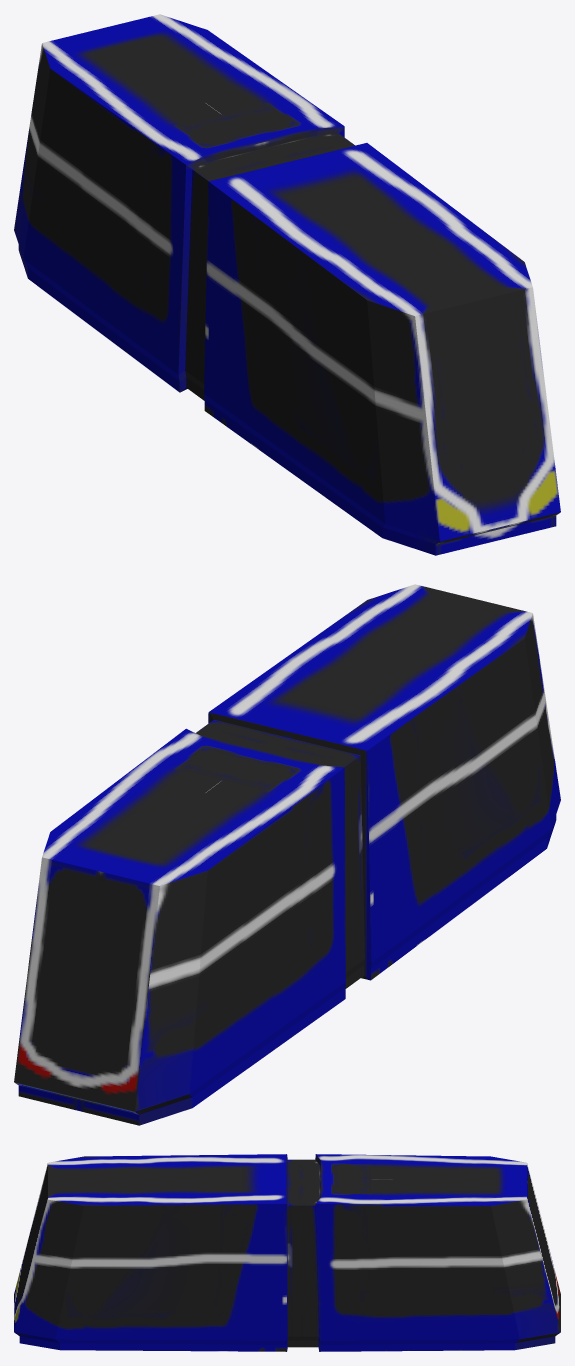
The model's file is tram.fbx.
The picture shows the model from 3 angles, top to bottom: view 1: azimuth 30°, elevation 25°; view 2: azimuth 150°, elevation 25°; view 3: azimuth 270°, elevation 25°; orthographic projection. The views are drawn at different scales.
Visible parts, largest first — view 1: Plane; view 2: Plane; view 3: Plane.
Part boxes in pixels (x1=…): Plane: x1=14, y1=14, x2=560, y2=555; Plane: x1=14, y1=584, x2=560, y2=1125; Plane: x1=14, y1=1154, x2=560, y2=1351.
Size of the model in its own units: 386 by 503 by 1699.
1 material, 1 textured.
